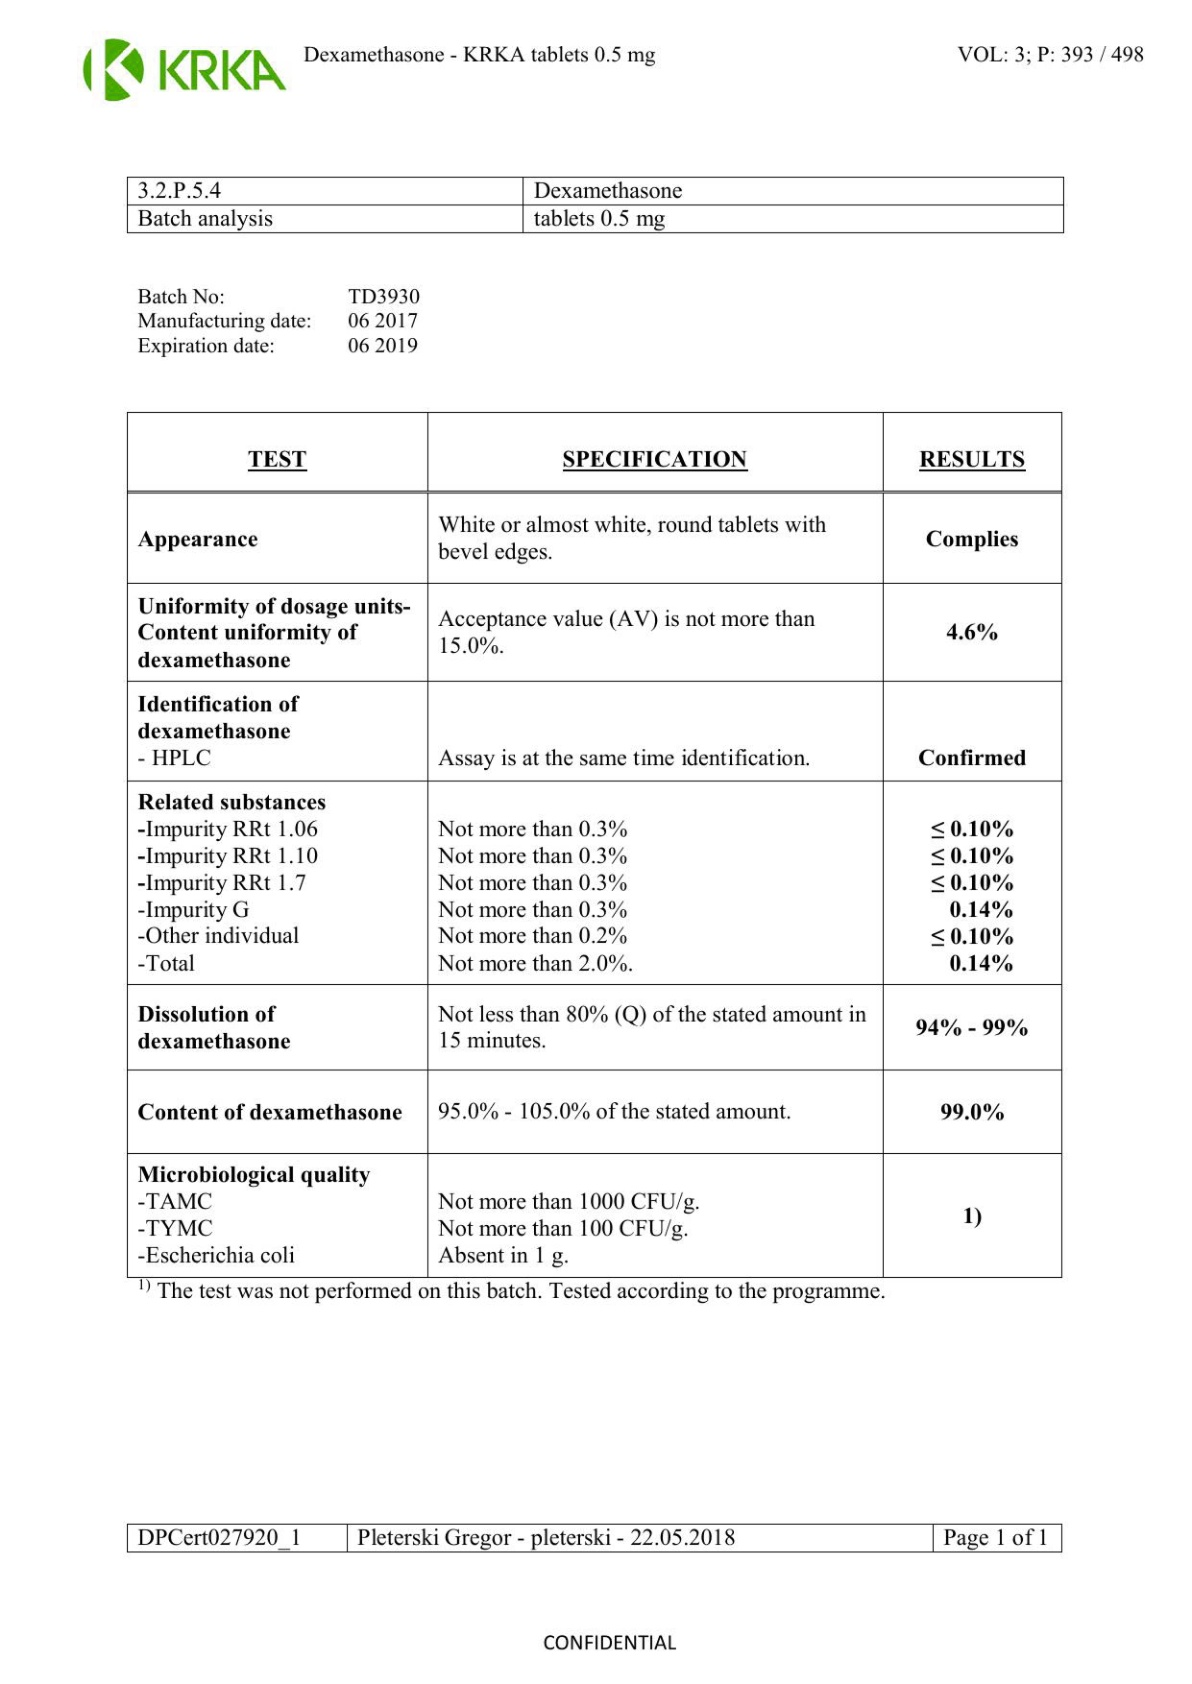full_lined: (126, 411, 1063, 1278), (126, 175, 1066, 233), (125, 1523, 1063, 1552)
nolines: (134, 282, 423, 358)
